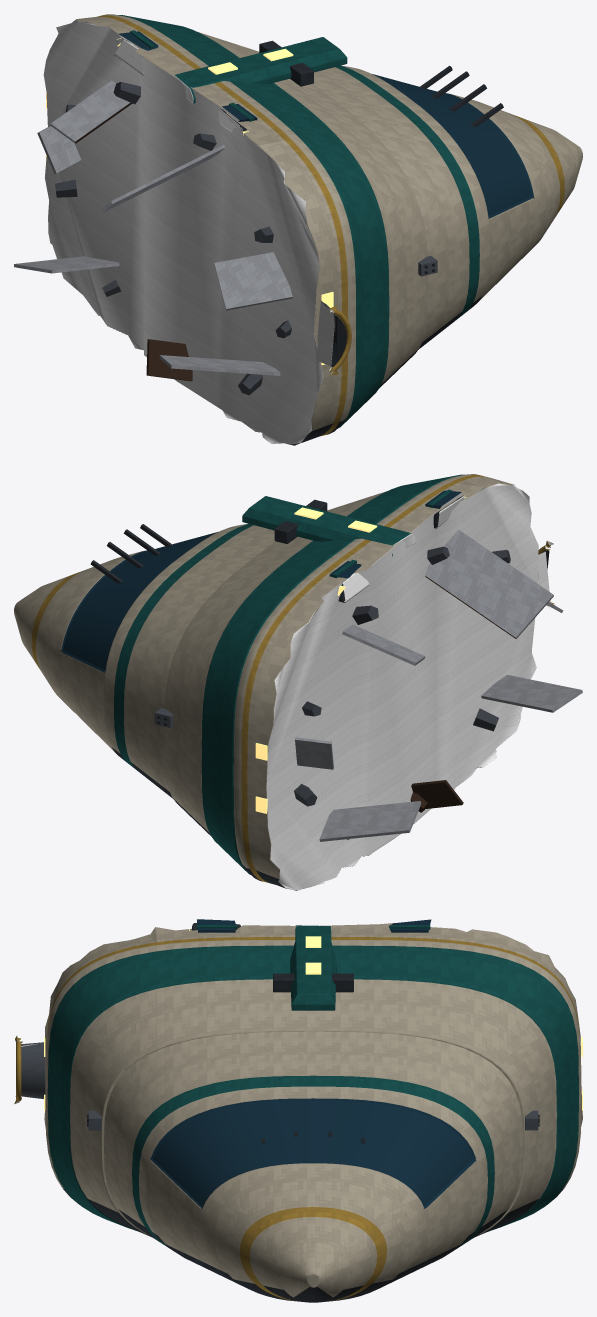
Rendered from wreck_liner_bow.glb.
3 renders of one model, top to bottom at view 1: azimuth 30°, elevation 25°; view 2: azimuth 150°, elevation 25°; view 3: azimuth 270°, elevation 25°, orthographic. The views are drawn at different scales.
Visible parts, largest first — view 1: Drum, Wedge, Spine, woundAft_t_tear2, woundAft_t_tear4, woundAft_t_tear1, DockCollar, woundAft_t_tear0, woundAft_t_tear5, woundAft_t_tear6, woundAft_t_tear3, SpineSaddle5 (+1 smaller); view 2: Drum, Wedge, woundAft_t_tear3, Spine, woundAft_t_tear6, woundAft_t_tear1, woundAft_t_tear4, woundAft_t_tear5, woundAft_t_tear0, SpineSaddle5; view 3: Wedge, Drum, Spine, DockCollar, SpineSaddle5.
Part boxes in pixels (x1,y1,x2,y2): Drum: (43, 14, 428, 445); Wedge: (313, 65, 582, 349); Spine: (168, 37, 347, 103); woundAft_t_tear2: (214, 252, 292, 310); woundAft_t_tear4: (50, 80, 132, 143); woundAft_t_tear1: (159, 355, 280, 375); DockCollar: (315, 300, 346, 366); woundAft_t_tear0: (146, 339, 192, 381); woundAft_t_tear5: (37, 126, 81, 173); woundAft_t_tear6: (14, 256, 119, 273); woundAft_t_tear3: (101, 145, 225, 212); SpineSaddle5: (259, 40, 313, 86); Drum: (164, 474, 538, 890); Wedge: (14, 523, 275, 798); woundAft_t_tear3: (425, 529, 553, 638); Spine: (242, 496, 415, 556); woundAft_t_tear6: (319, 801, 421, 841); woundAft_t_tear1: (481, 675, 582, 712); woundAft_t_tear4: (342, 624, 425, 665); woundAft_t_tear5: (295, 737, 333, 769); woundAft_t_tear0: (411, 780, 463, 808); SpineSaddle5: (274, 499, 327, 543); Wedge: (103, 1031, 522, 1302); Drum: (44, 923, 582, 1237); Spine: (290, 925, 336, 1010); DockCollar: (21, 1042, 45, 1098); SpineSaddle5: (273, 973, 353, 992).
Size of the model in its own units: 69 by 39.69 by 68.11.
Materials: 12 (10 with a texture image).
